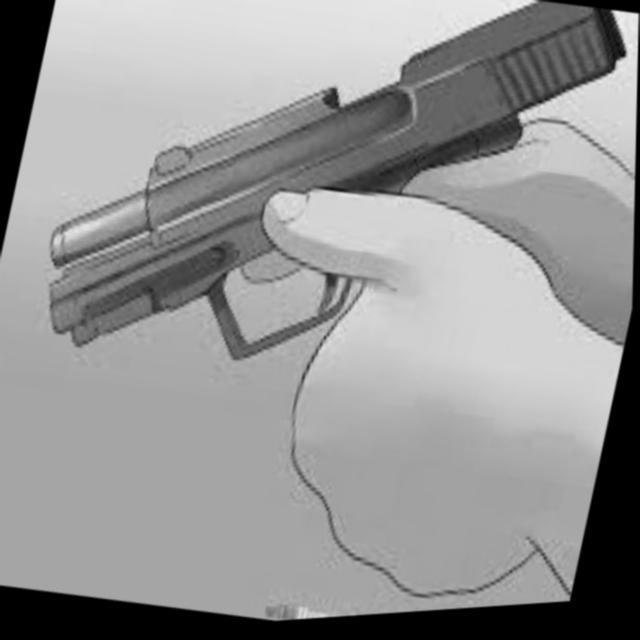weapon: (27, 0, 635, 443)
